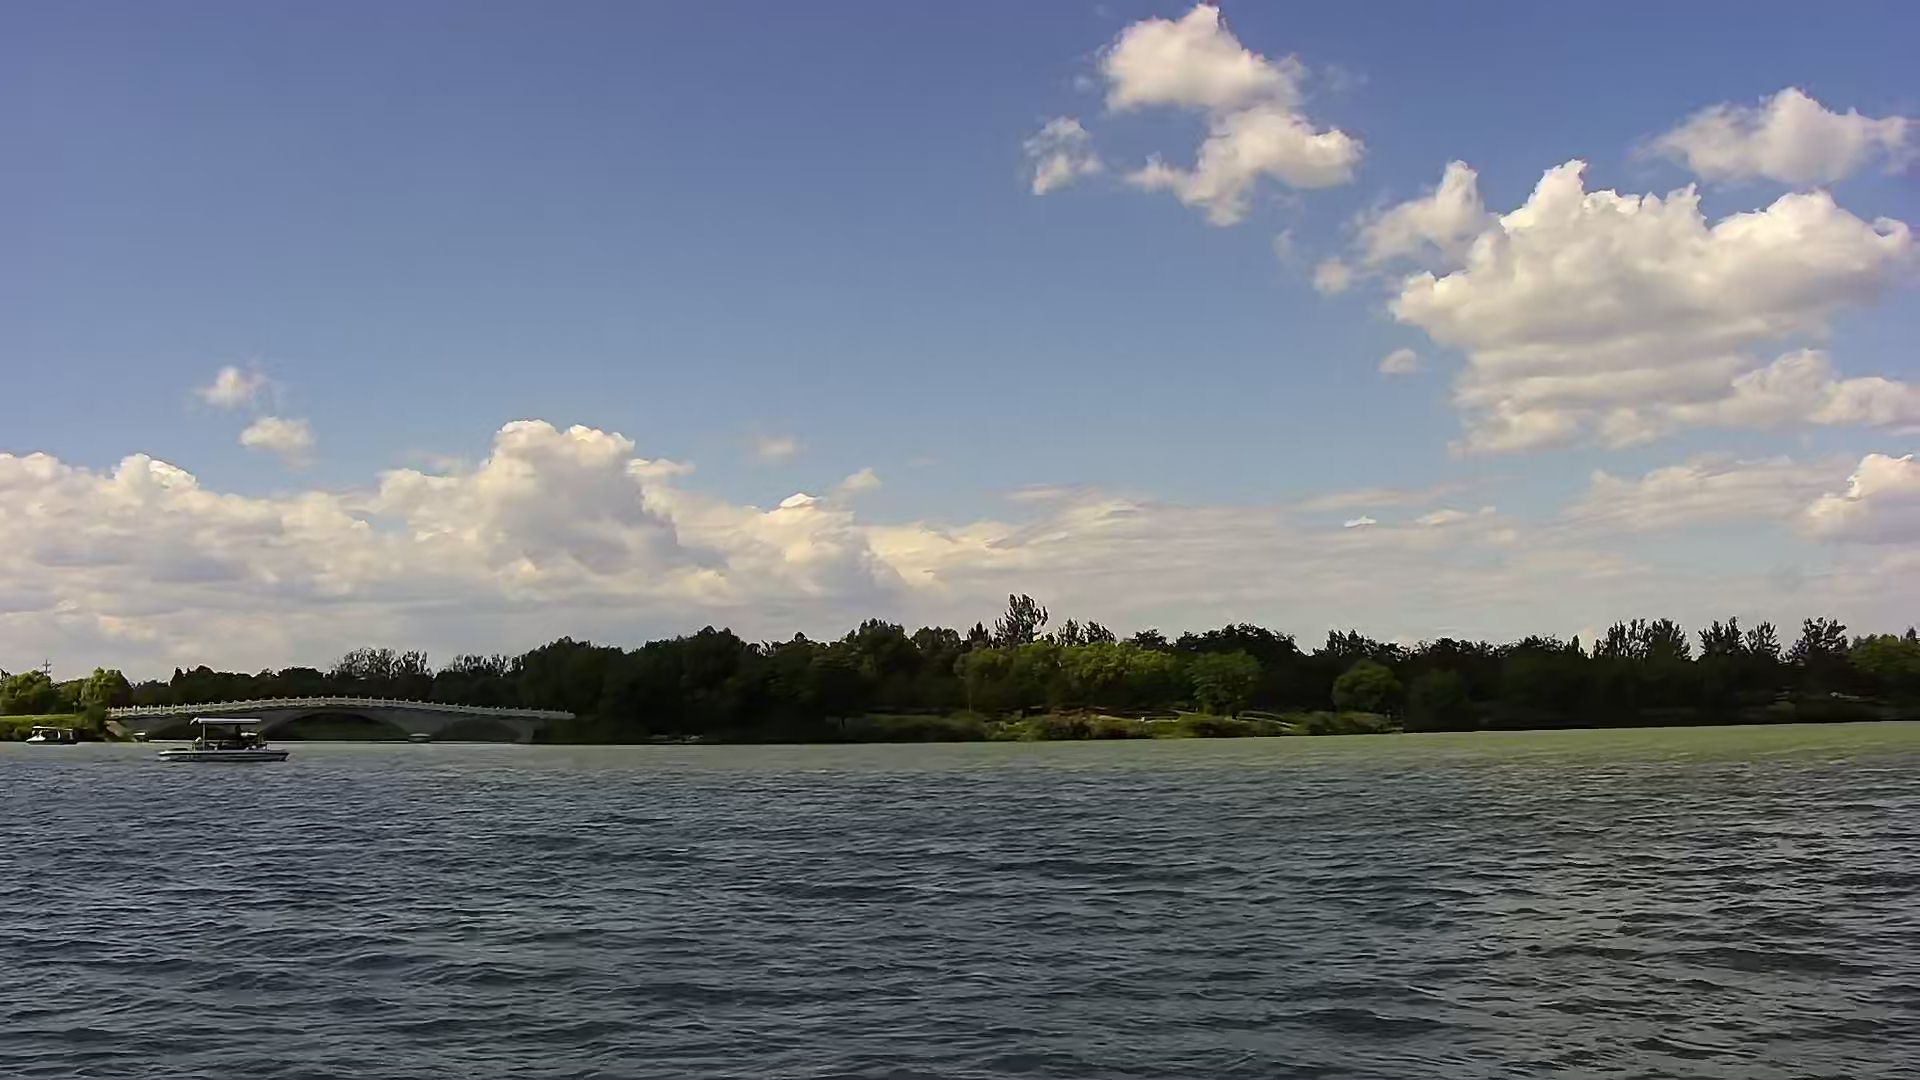boat: (160, 715, 295, 769)
bridge: (99, 698, 578, 750)
